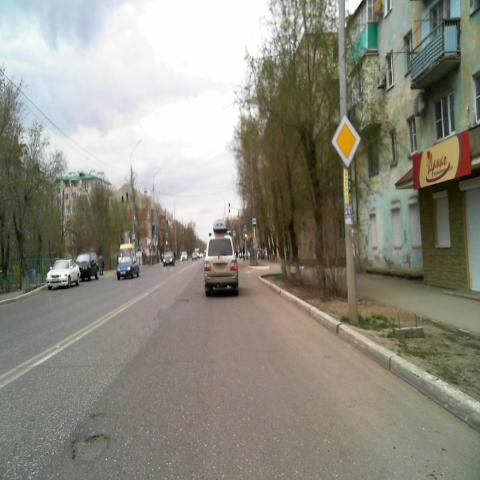2_1: (331, 113, 361, 168)
